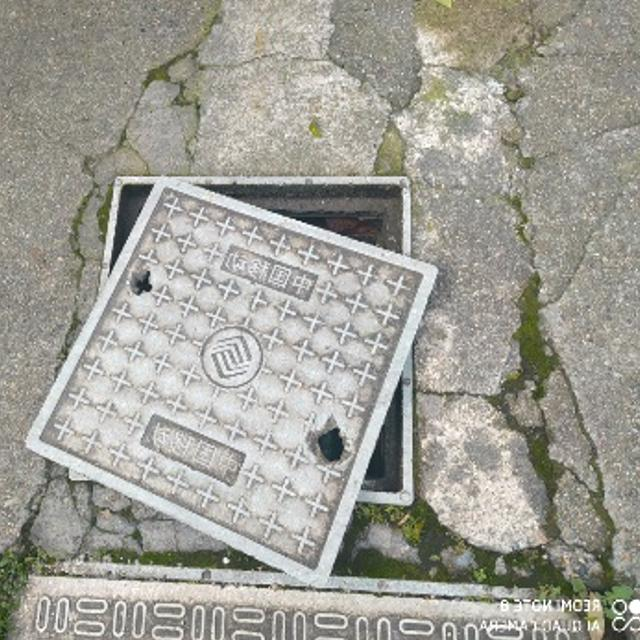uncovered: (25, 172, 442, 580)
